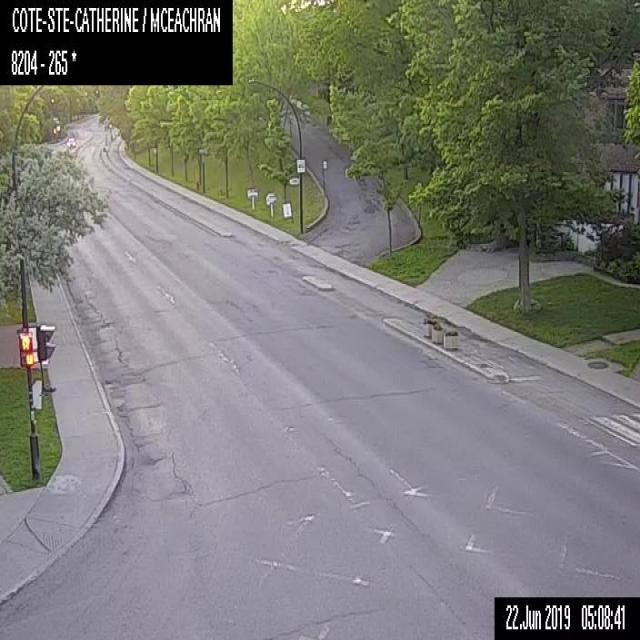vehicle: (64, 136, 76, 148)
